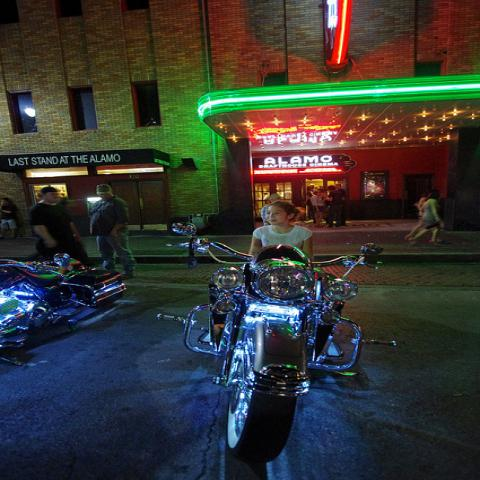motorcycle: (150, 218, 402, 466), (2, 254, 133, 366)
